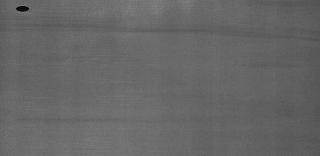punching hole: (14, 4, 32, 14)
